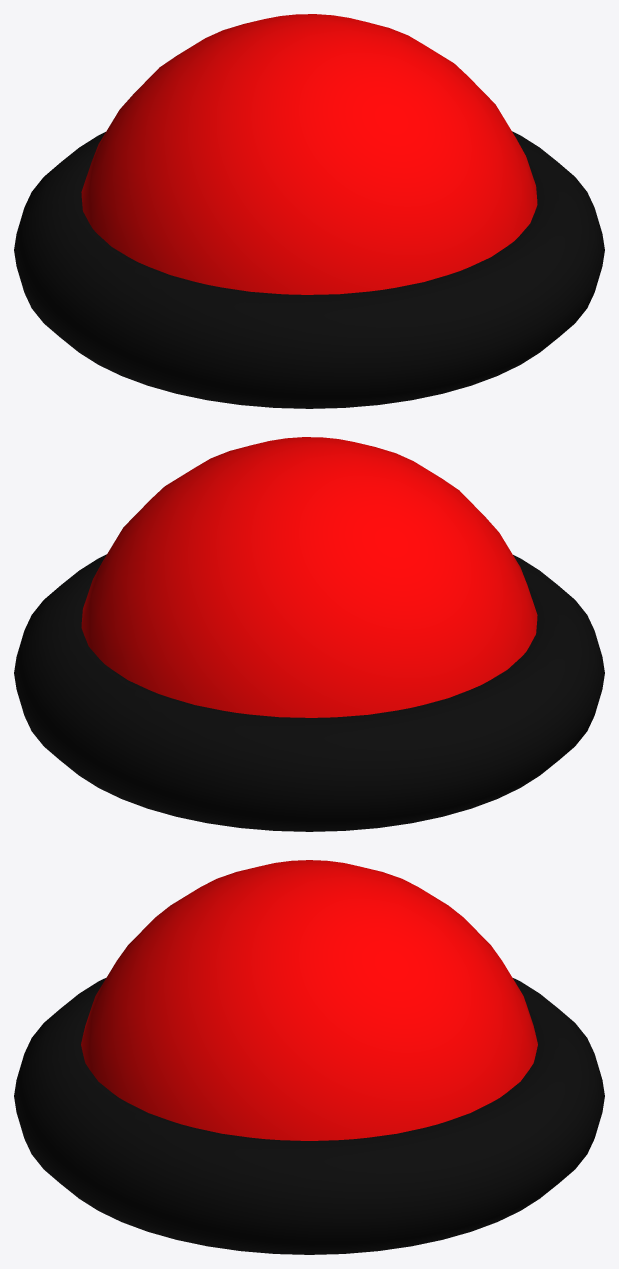
Rendered from bulb (on).fbx.
The picture shows the model from 3 angles, top to bottom: view 1: azimuth 30°, elevation 25°; view 2: azimuth 150°, elevation 25°; view 3: azimuth 270°, elevation 25°; orthographic projection.
Visible parts, largest first — view 1: Sphere; view 2: Sphere; view 3: Sphere.
Part boxes in pixels (box(x1,y1,x2,y2)): Sphere: box(14, 14, 604, 408); Sphere: box(14, 437, 604, 831); Sphere: box(14, 860, 604, 1254).
Bounding box in the file's own units: 250 × 125 × 250.
